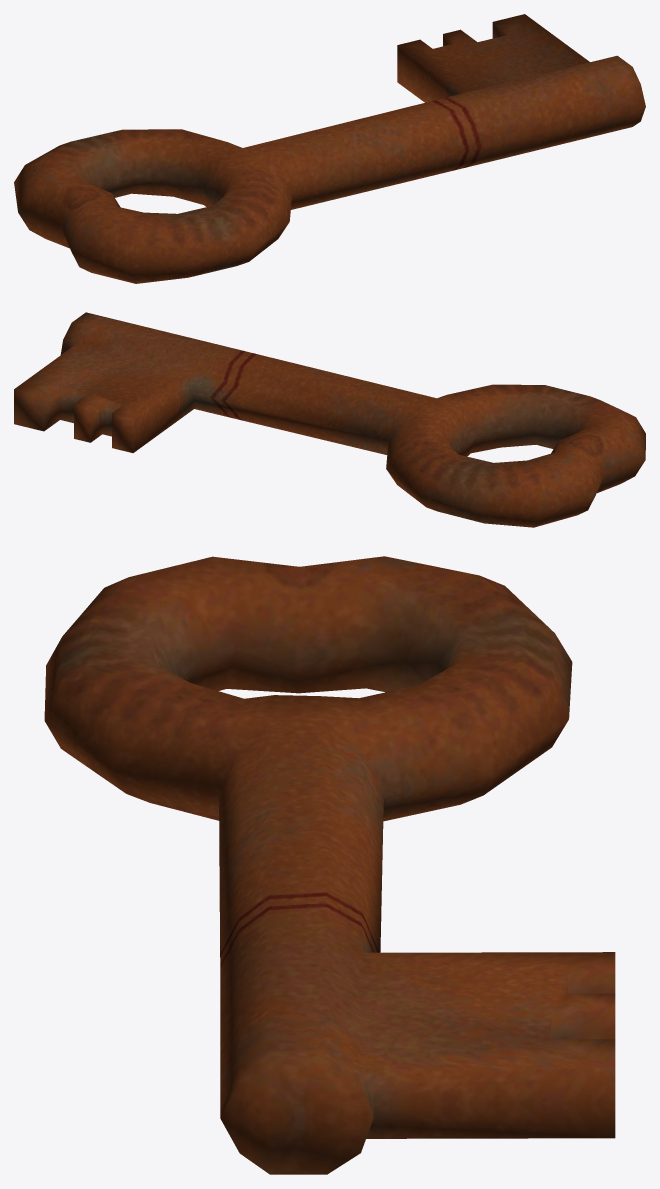
3 renders of one model, top to bottom at view 1: azimuth 30°, elevation 25°; view 2: azimuth 150°, elevation 25°; view 3: azimuth 270°, elevation 25°, orthographic. The views are drawn at different scales.
Parts seen in each view (by area): view 1: Object_6; view 2: Object_6; view 3: Object_6.
Boxes of the visible parts, x1,y1,x2,y2 form: Object_6: [14, 14, 645, 283]; Object_6: [14, 312, 645, 527]; Object_6: [44, 556, 615, 1174].
Bounding box in the file's own units: 0.5589 × 0.0567 × 0.2548.
1 material, 1 textured.
